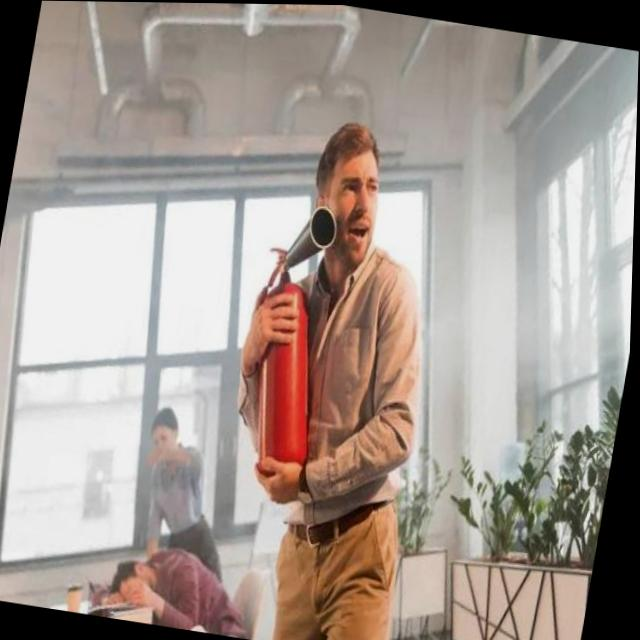FireExtinguisher: (227, 194, 356, 502)
